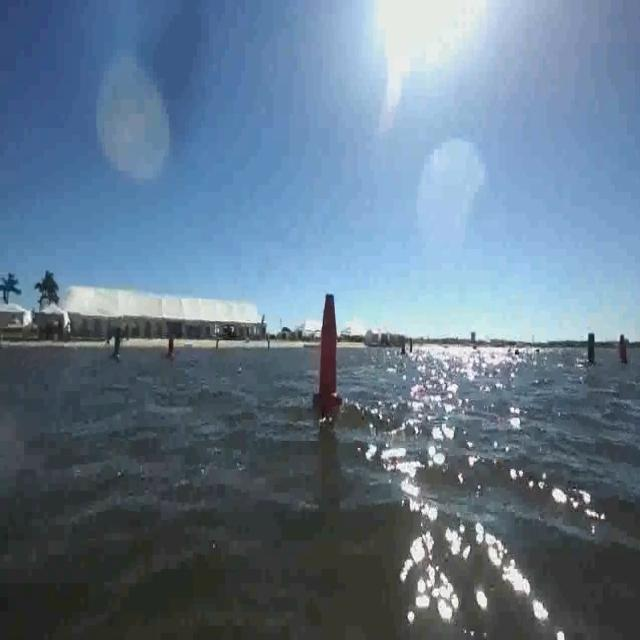red-column-buoy: (314, 289, 342, 409)
